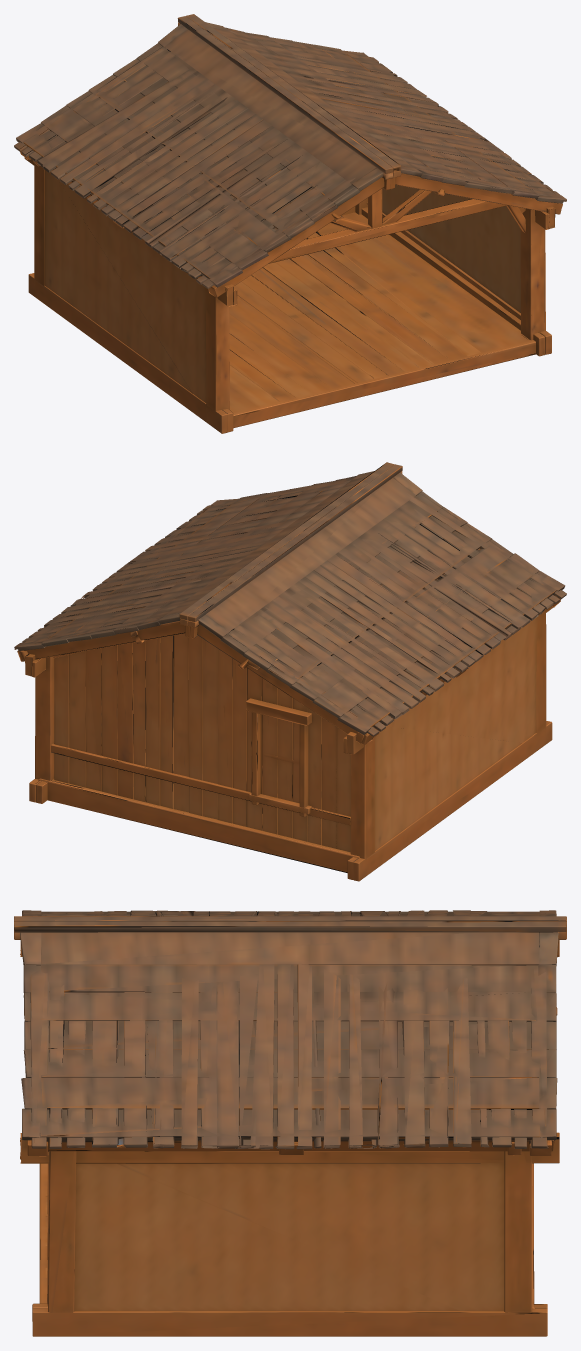
The model's file is cabin_cutaway_hollow_.glb.
3 renders of one model, top to bottom at view 1: azimuth 30°, elevation 25°; view 2: azimuth 150°, elevation 25°; view 3: azimuth 270°, elevation 25°, orthographic. The views are drawn at different scales.
Visible parts, largest first — view 1: geometry_0; view 2: geometry_0; view 3: geometry_0.
Part boxes in pixels (x1,y1,x2,y2): geometry_0: (14,14,566,433); geometry_0: (14,462,566,881); geometry_0: (14,910,566,1336).
Size of the model in its own units: 19.63 by 12 by 19.51.
Materials: 1 (1 with a texture image).
